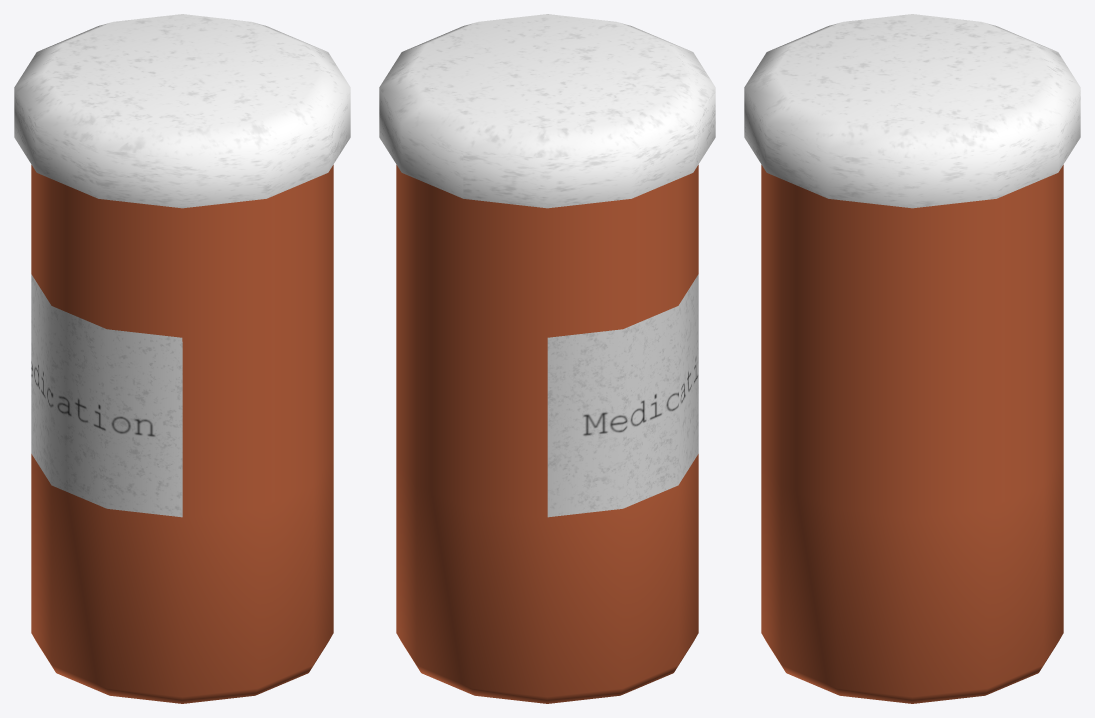
File: MedicationPillBox.fbx
3 views of the same model, side by side, from view 1: azimuth 30°, elevation 25°; view 2: azimuth 150°, elevation 25°; view 3: azimuth 270°, elevation 25° (orthographic).
Visible parts, largest first — view 1: Box, Cap; view 2: Box, Cap; view 3: Box, Cap.
Boxes of the visible parts, bbox=[...] form: Box: bbox=[31, 165, 333, 703]; Cap: bbox=[14, 14, 350, 208]; Box: bbox=[396, 165, 698, 703]; Cap: bbox=[379, 14, 715, 208]; Box: bbox=[761, 165, 1063, 703]; Cap: bbox=[744, 14, 1080, 208].
Bounding box in the file's own units: 223 × 416 × 223.
